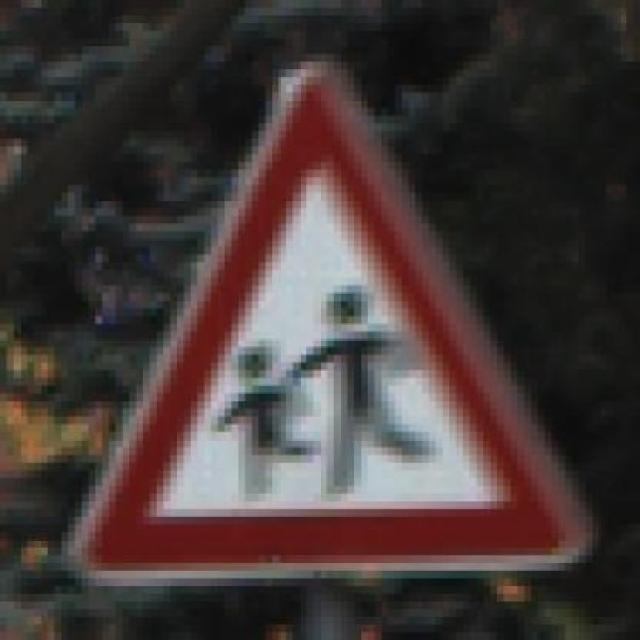Beware of children: (62, 62, 606, 586)
